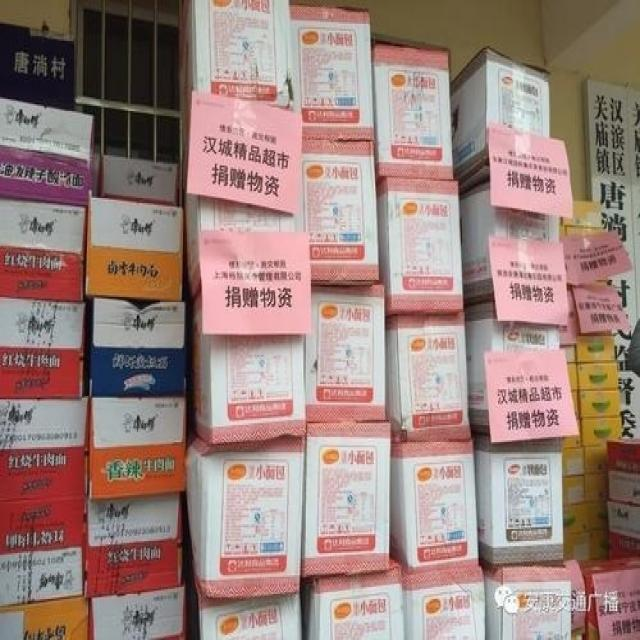Carton: (302, 183, 468, 572), (374, 34, 552, 176), (86, 200, 186, 391), (0, 97, 91, 297), (197, 435, 303, 594), (191, 0, 293, 108), (472, 437, 562, 556), (291, 3, 371, 133), (302, 140, 375, 275), (84, 493, 179, 594), (90, 396, 184, 492), (0, 399, 88, 498), (0, 500, 82, 601), (0, 295, 79, 394), (401, 560, 483, 637), (308, 572, 398, 637), (92, 587, 183, 638)
